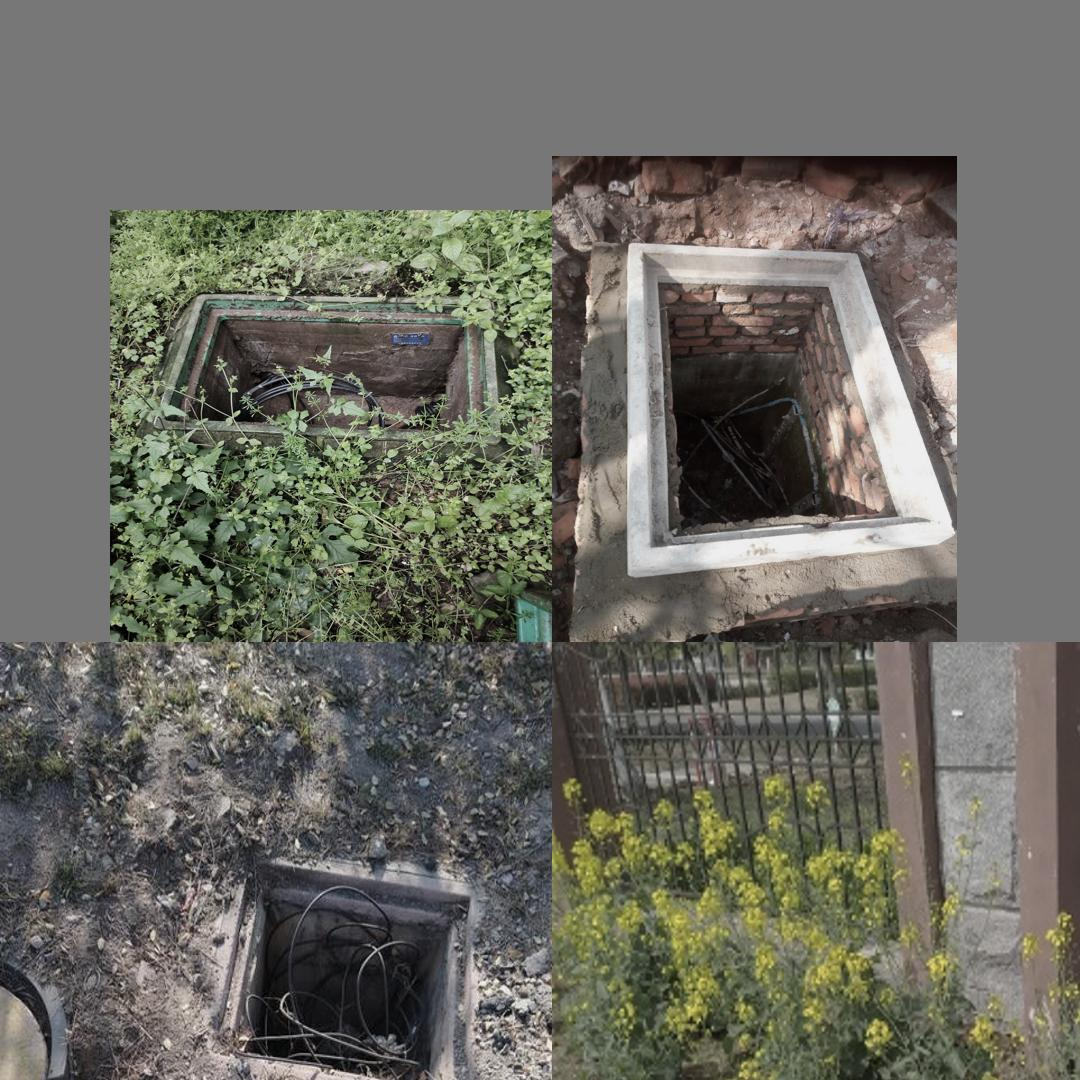lose: (626, 241, 957, 577), (176, 839, 500, 1080), (153, 286, 505, 457)
